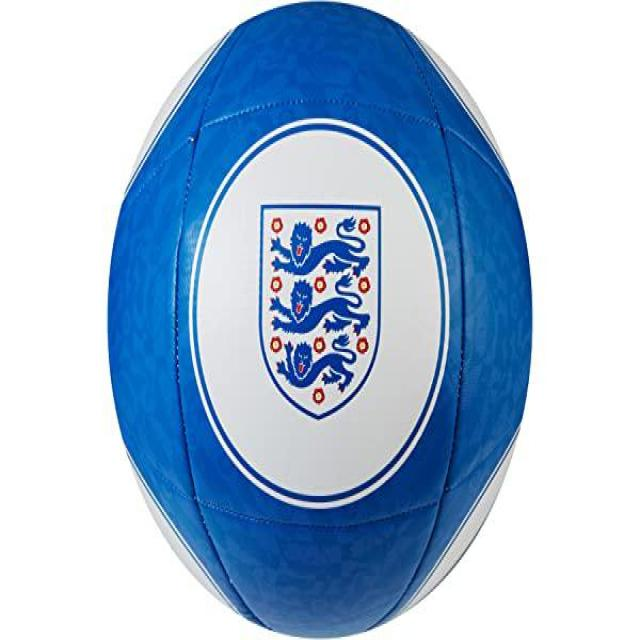ball: (97, 0, 541, 636)
